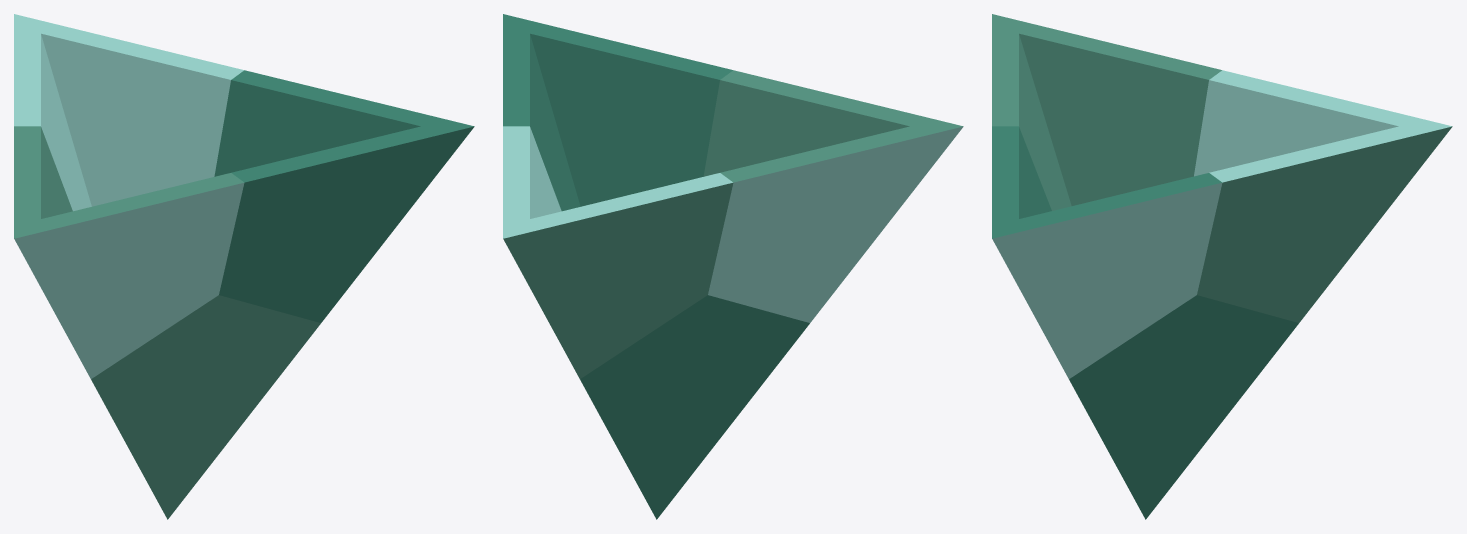
File: bin.Pyrimad3.fbx
3 renders of one model, left to right at view 1: azimuth 30°, elevation 25°; view 2: azimuth 150°, elevation 25°; view 3: azimuth 270°, elevation 25°, orthographic.
Visible parts, largest first — view 1: Cone; view 2: Cone; view 3: Cone.
Boxes of the visible parts, left/top/right/bottom form: Cone: left=14, top=14, right=474, bottom=519; Cone: left=503, top=14, right=963, bottom=519; Cone: left=992, top=14, right=1452, bottom=519.
Bounding box in the file's own units: 200 × 163 × 173.
